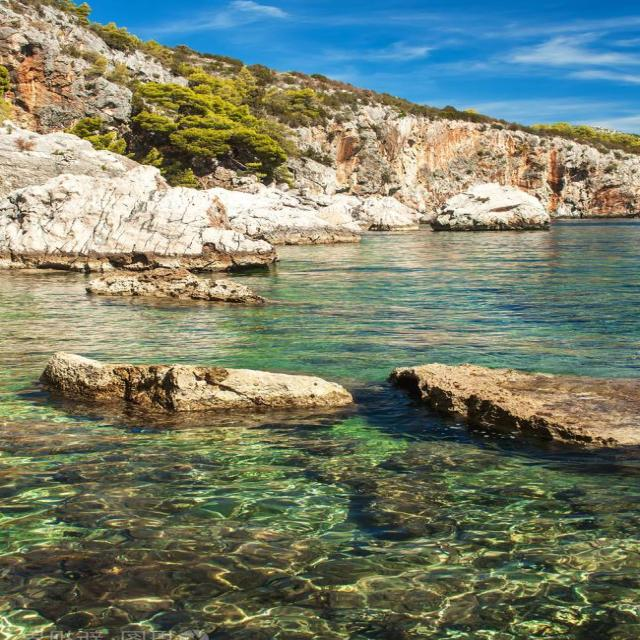reef: (22, 311, 625, 436)
